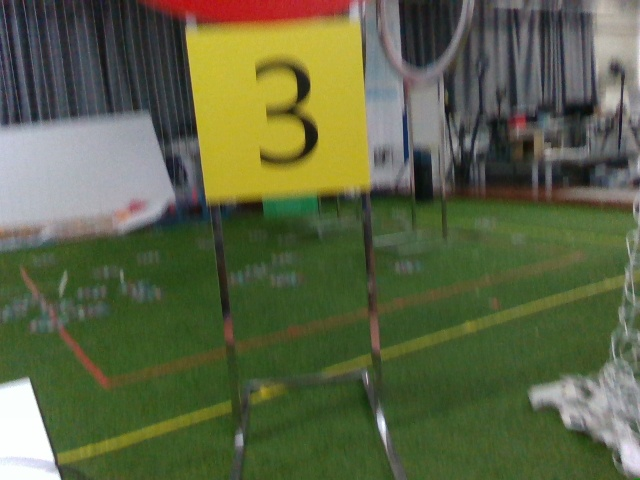target: (198, 27, 364, 194)
